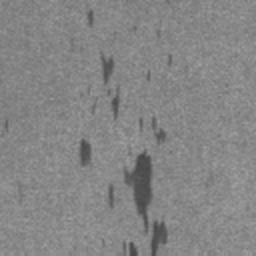Red iron sheet: (122, 151, 168, 256), (101, 52, 115, 86), (151, 116, 166, 142), (110, 84, 120, 120), (79, 138, 92, 165), (122, 242, 140, 256), (86, 9, 95, 26), (108, 184, 114, 209), (138, 118, 143, 132), (168, 55, 173, 67)
